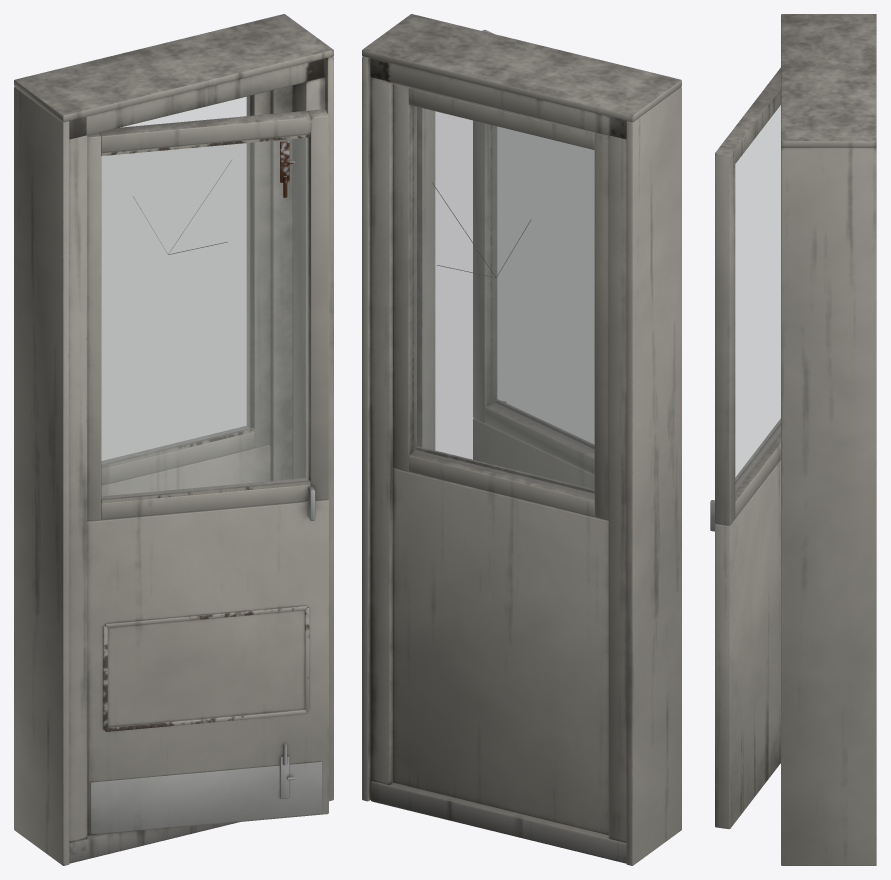
The model's file is SM_BalconyDoor.fbx.
3 views of the same model, side by side, from view 1: azimuth 30°, elevation 25°; view 2: azimuth 150°, elevation 25°; view 3: azimuth 270°, elevation 25° (orthographic). The views are drawn at different scales.
Visible parts, largest first — view 1: SM_BalconyDoor; view 2: SM_BalconyDoor; view 3: SM_BalconyDoor.
Part boxes in pixels (x1,y1,x2,y2): SM_BalconyDoor: (14,14,333,865); SM_BalconyDoor: (362,14,681,865); SM_BalconyDoor: (710,14,876,865).
Bounding box in the file's own units: 0.82 × 2.17 × 0.452.
Materials: 2 (1 with a texture image).
